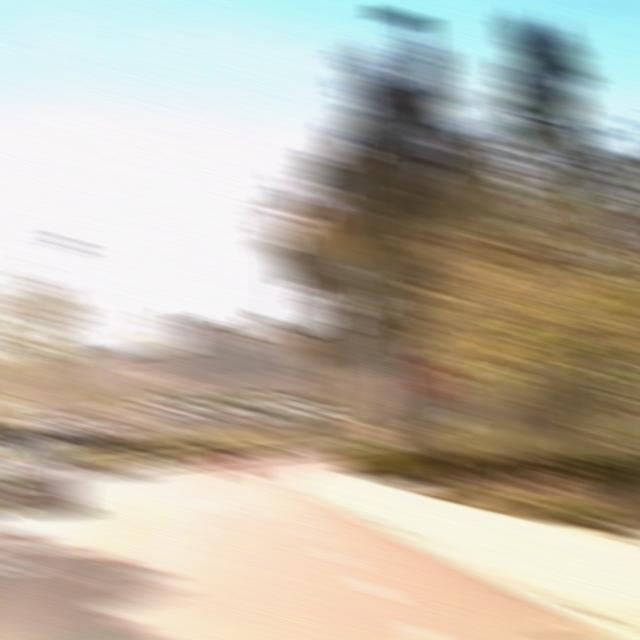stop: (408, 355, 454, 401)
